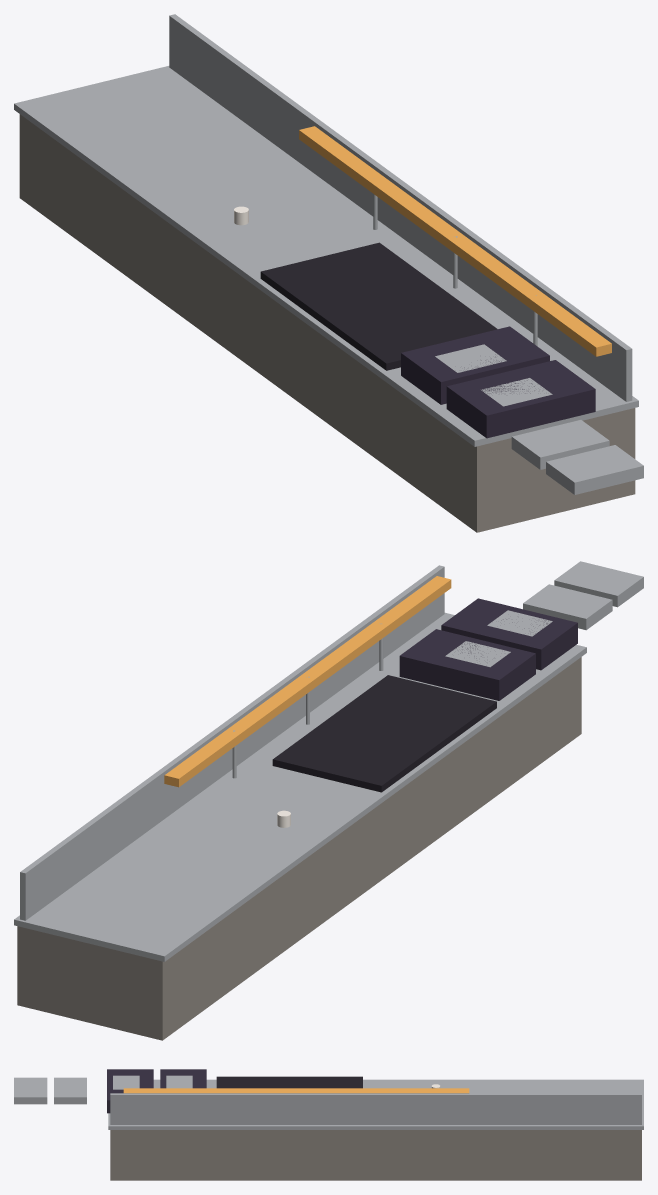
Rendered from diner_kitchen_line.glb.
The picture shows the model from 3 angles, top to bottom: view 1: azimuth 30°, elevation 25°; view 2: azimuth 150°, elevation 25°; view 3: azimuth 270°, elevation 25°; orthographic projection. The views are drawn at different scales.
Parts seen in each view (by area): view 1: line_base, line_top, splash_back, griddle_slab, heat_lamp_bar, fryer_bay_1, fryer_bay_0, prep_well_0, prep_well_1, fry_basket_0, fry_basket_1; view 2: line_base, line_top, splash_back, griddle_slab, heat_lamp_bar, fryer_bay_0, fryer_bay_1, prep_well_1, prep_well_0, fry_basket_0, fry_basket_1; view 3: line_base, splash_back, line_top, heat_lamp_bar, griddle_slab, prep_well_0, prep_well_1, fryer_bay_1, fryer_bay_0, fry_basket_1, fry_basket_0.
Part boxes in pixels (x1=…): line_base: x1=19, y1=114, x2=635, y2=532; line_top: x1=14, y1=66, x2=638, y2=446; splash_back: x1=169, y1=14, x2=632, y2=401; griddle_slab: x1=260, y1=242, x2=497, y2=370; heat_lamp_bar: x1=299, y1=126, x2=611, y2=356; fryer_bay_1: x1=446, y1=360, x2=595, y2=438; fryer_bay_0: x1=401, y1=326, x2=549, y2=404; prep_well_0: x1=546, y1=445, x2=643, y2=494; prep_well_1: x1=511, y1=420, x2=609, y2=469; fry_basket_0: x1=435, y1=344, x2=506, y2=372; fry_basket_1: x1=481, y1=378, x2=552, y2=406; line_base: x1=17, y1=657, x2=581, y2=1040; line_top: x1=14, y1=612, x2=586, y2=961; splash_back: x1=20, y1=565, x2=444, y2=920; griddle_slab: x1=272, y1=675, x2=496, y2=792; heat_lamp_bar: x1=164, y1=576, x2=451, y2=787; fryer_bay_0: x1=399, y1=629, x2=535, y2=700; fryer_bay_1: x1=441, y1=598, x2=577, y2=670; prep_well_1: x1=523, y1=584, x2=612, y2=630; prep_well_0: x1=554, y1=561, x2=643, y2=607; fry_basket_0: x1=445, y1=641, x2=510, y2=667; fry_basket_1: x1=487, y1=610, x2=552, y2=636; line_base: x1=110, y1=1130, x2=641, y2=1180; splash_back: x1=110, y1=1093, x2=641, y2=1124; line_top: x1=108, y1=1079, x2=643, y2=1129; heat_lamp_bar: x1=123, y1=1088, x2=469, y2=1093; griddle_slab: x1=216, y1=1076, x2=362, y2=1088; prep_well_0: x1=14, y1=1077, x2=47, y2=1104; prep_well_1: x1=54, y1=1077, x2=86, y2=1104; fryer_bay_1: x1=107, y1=1069, x2=153, y2=1113; fryer_bay_0: x1=160, y1=1069, x2=206, y2=1088; fry_basket_1: x1=113, y1=1075, x2=139, y2=1089; fry_basket_0: x1=166, y1=1075, x2=192, y2=1088.
Size of the model in its own units: 1.66 by 1.41 by 9.48.
